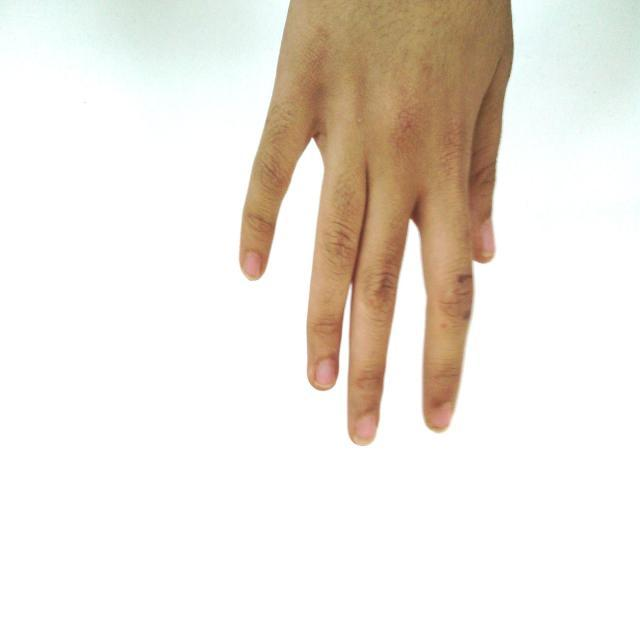Fingernail: (430, 403, 452, 431), (355, 416, 376, 445), (314, 360, 335, 388), (481, 221, 495, 258), (243, 253, 261, 280)
